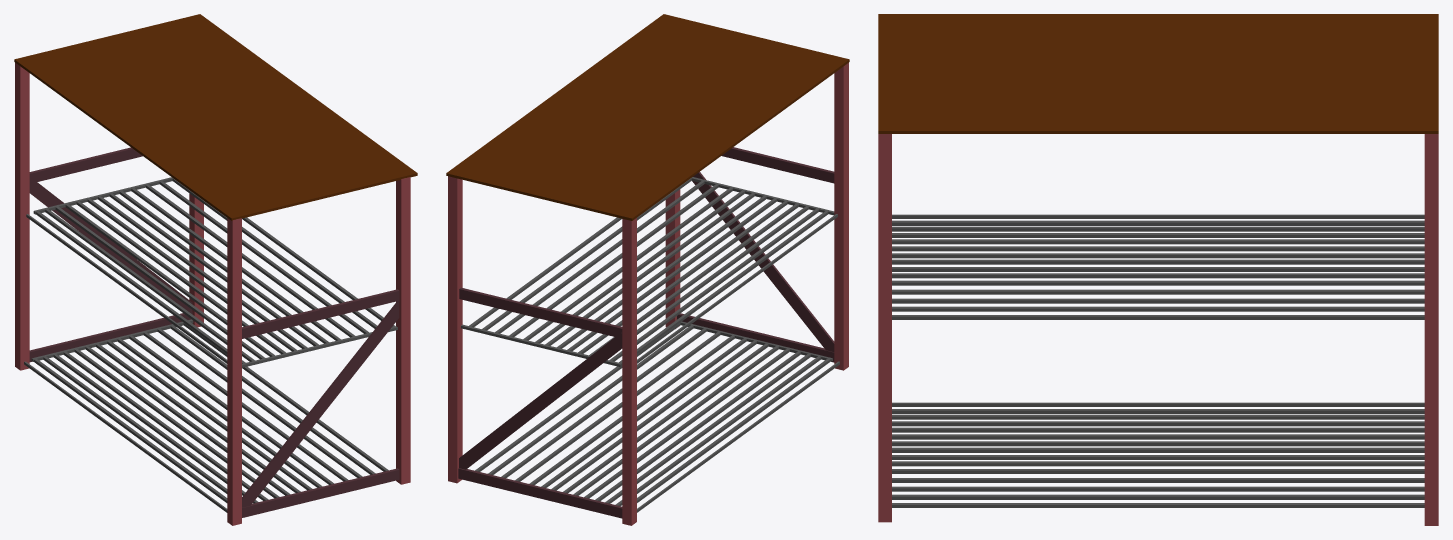
Rendered from RepisaUnida.fbx.
3 renders of one model, left to right at view 1: azimuth 30°, elevation 25°; view 2: azimuth 150°, elevation 25°; view 3: azimuth 270°, elevation 25°, orthographic. The views are drawn at different scales.
Visible parts, largest first — view 1: RepisaUnida.001; view 2: RepisaUnida.001; view 3: RepisaUnida.001.
Boxes of the visible parts, x1=… form: RepisaUnida.001: x1=14, y1=14, x2=417, y2=525; RepisaUnida.001: x1=446, y1=14, x2=849, y2=525; RepisaUnida.001: x1=878, y1=14, x2=1438, y2=525.
Size of the model in its own units: 220 by 348 by 447.
